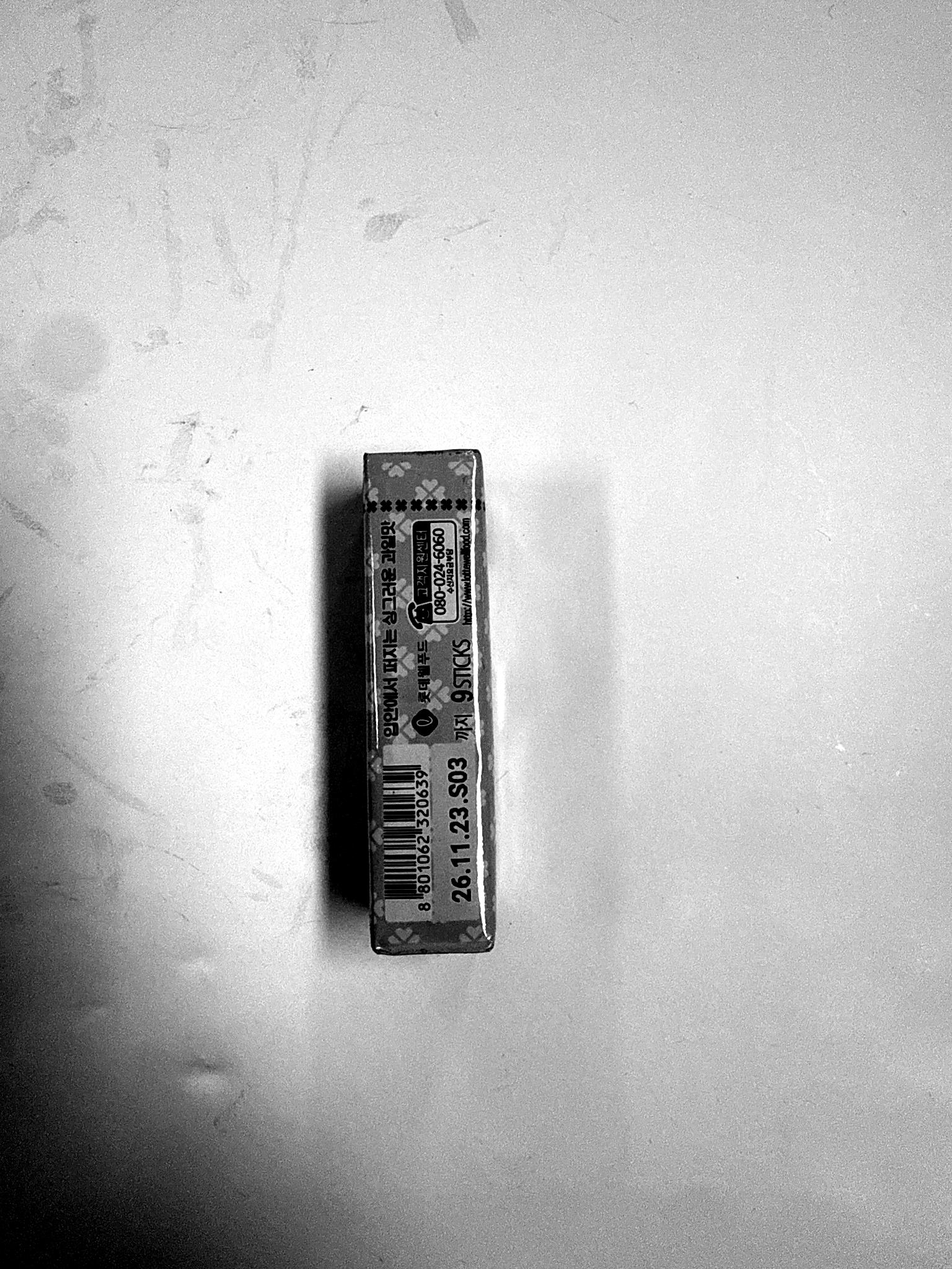gum_yellow: (367, 453, 501, 952)
